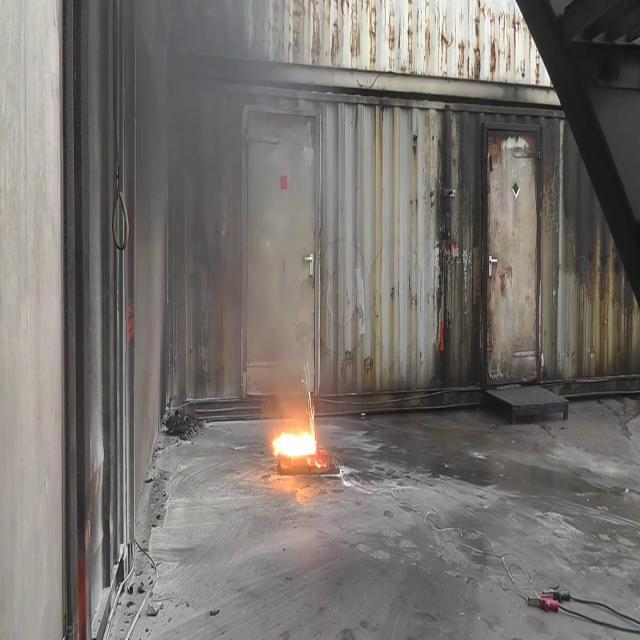Fire: (269, 410, 323, 466)
Smoke: (124, 0, 278, 345)
